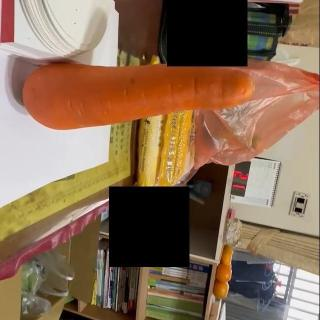carrot: (21, 62, 255, 132)
